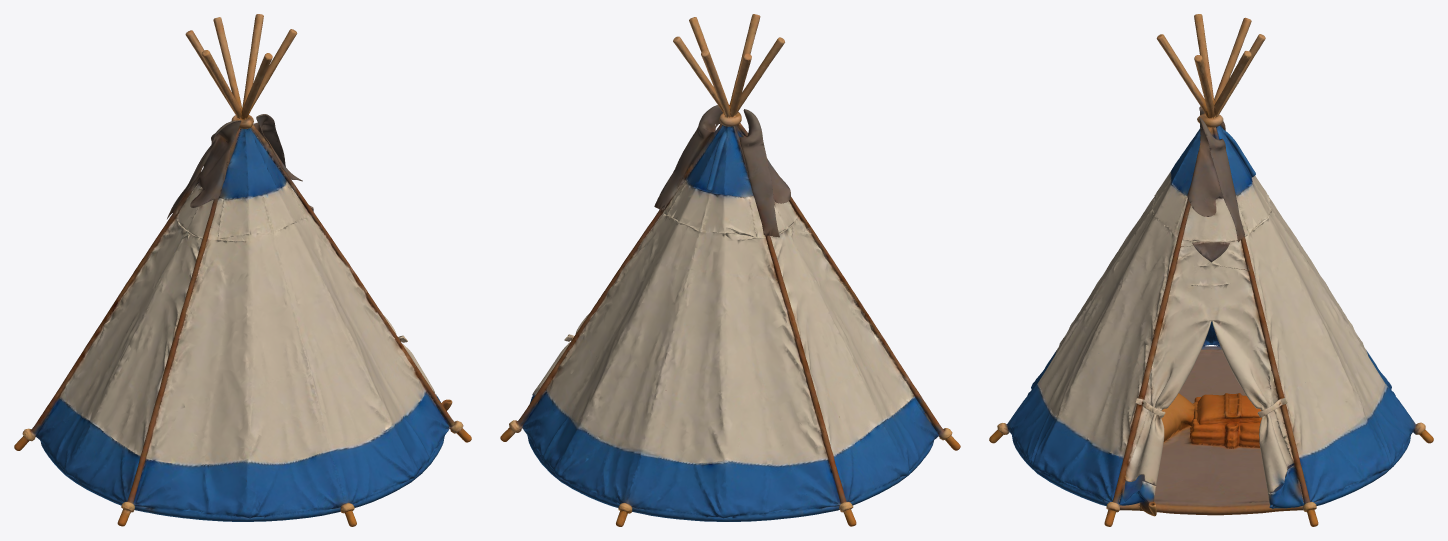
File: tipi.player.mobile.glb
3 views of the same model, side by side, from view 1: azimuth 30°, elevation 25°; view 2: azimuth 150°, elevation 25°; view 3: azimuth 270°, elevation 25° (orthographic).
Parts seen in each view (by area): view 1: tripo_node_ef32fe77-3acc-48a5-930a-7aea584f69dd; view 2: tripo_node_ef32fe77-3acc-48a5-930a-7aea584f69dd; view 3: tripo_node_ef32fe77-3acc-48a5-930a-7aea584f69dd.
Boxes of the visible parts, x1,y1,x2,y2 form: tripo_node_ef32fe77-3acc-48a5-930a-7aea584f69dd: (14,14,471,526); tripo_node_ef32fe77-3acc-48a5-930a-7aea584f69dd: (500,14,960,526); tripo_node_ef32fe77-3acc-48a5-930a-7aea584f69dd: (989,14,1433,526).
Bounding box in the file's own units: 0.9054 × 0.9995 × 0.9865.
Materials: 1 (1 with a texture image).
